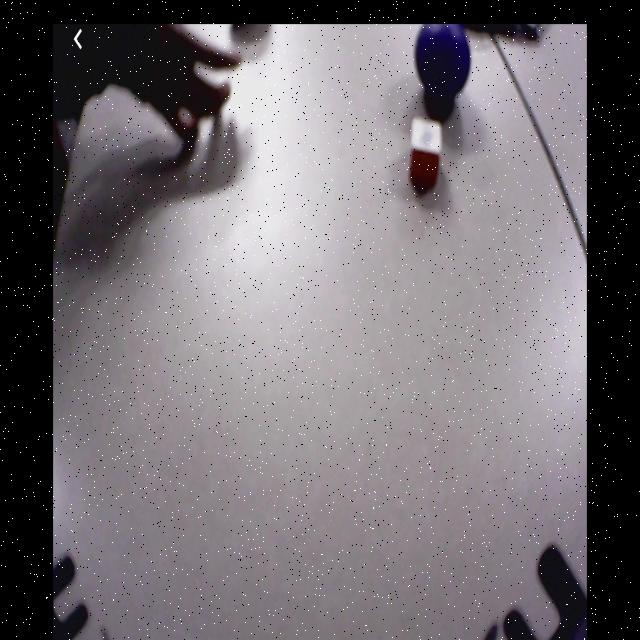ball: (415, 25, 471, 102)
